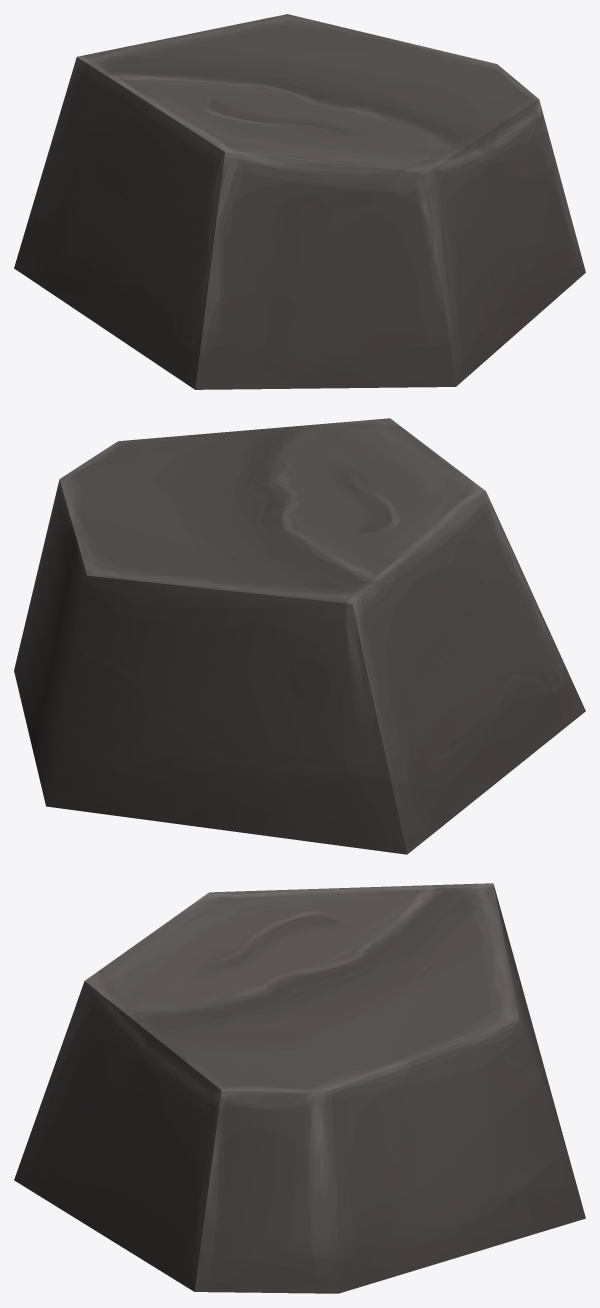
File: Rock_3.FBX
3 renders of one model, top to bottom at view 1: azimuth 30°, elevation 25°; view 2: azimuth 150°, elevation 25°; view 3: azimuth 270°, elevation 25°, orthographic. The views are drawn at different scales.
Parts seen in each view (by area): view 1: Rock_3; view 2: Rock_3; view 3: Rock_3.
Part boxes in pixels (bbox=[...]): Rock_3: bbox=[14, 14, 585, 389]; Rock_3: bbox=[14, 418, 585, 854]; Rock_3: bbox=[14, 883, 585, 1293].
Size of the model in its own units: 0.9336 by 0.4235 by 1.01.
